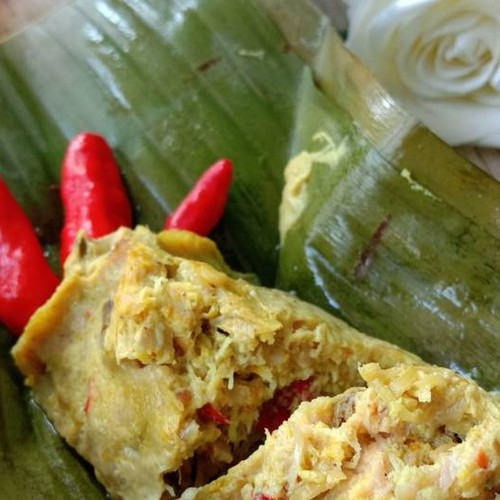tum ayam: (15, 224, 486, 500)
